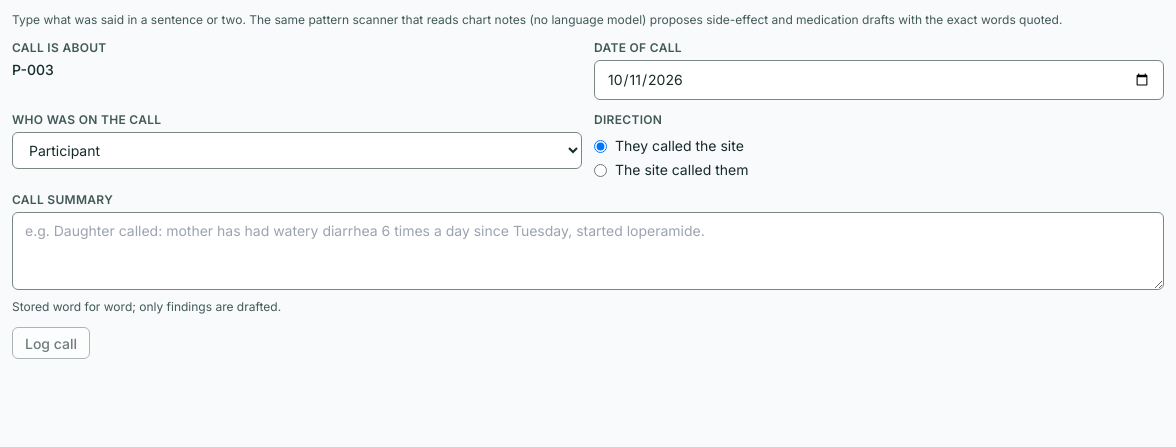
Test: Log a call › works with a fixed participant (timeline) and shows the API error
The width and height of the screenshot is (1176, 447).
Expected: the text "P-003" is shown, x1=12 y1=61 x2=54 y2=78
Type "rash" into the text box labelled "Call summary". click: (588, 251)
box: x1=12 y1=212 x2=1164 y2=290
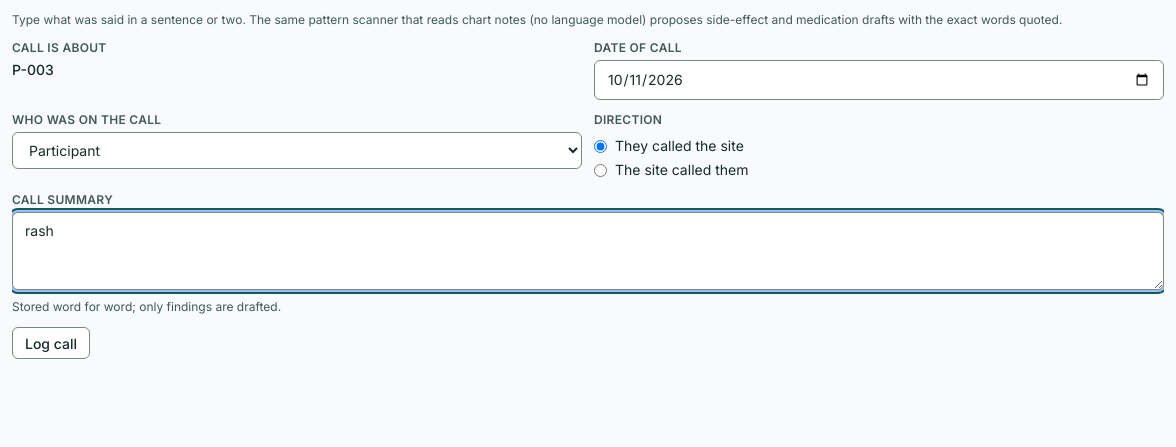
Click the button "Log call". click: (51, 343)
box: x1=12 y1=327 x2=90 y2=359
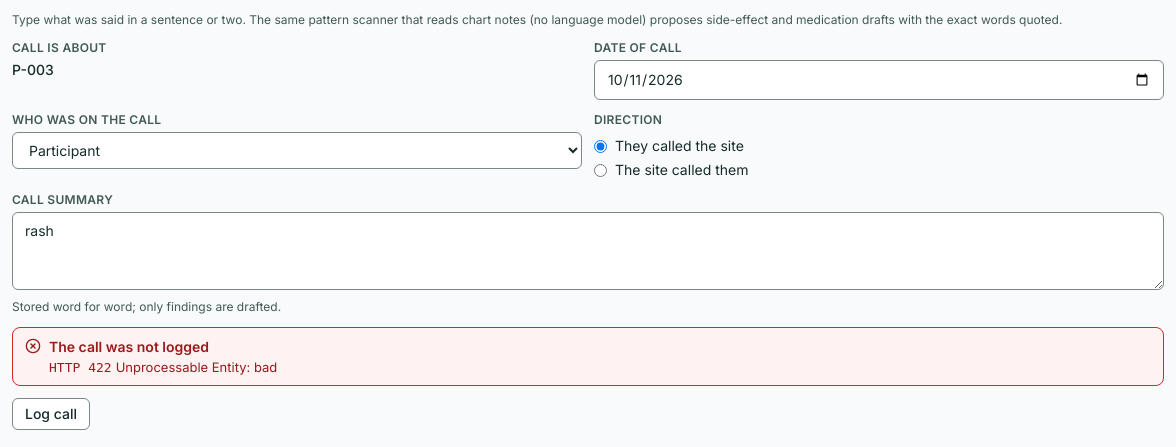
Expected: the text "The call was not logged" is shown, x1=49 y1=338 x2=209 y2=355
